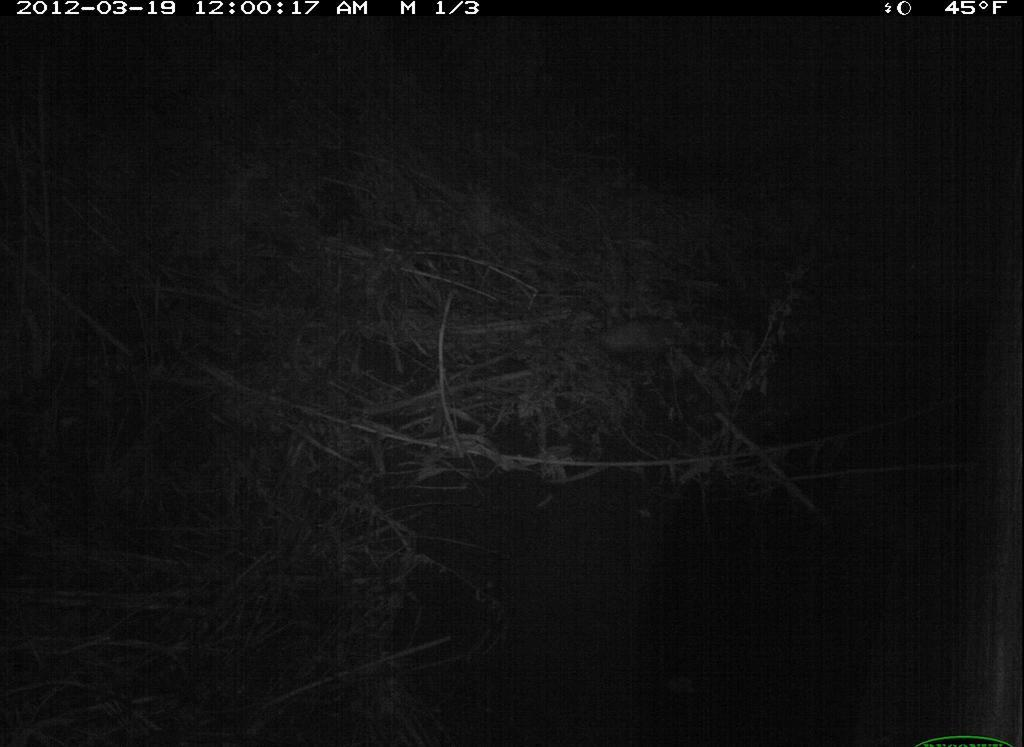opossum: (583, 309, 692, 378)
